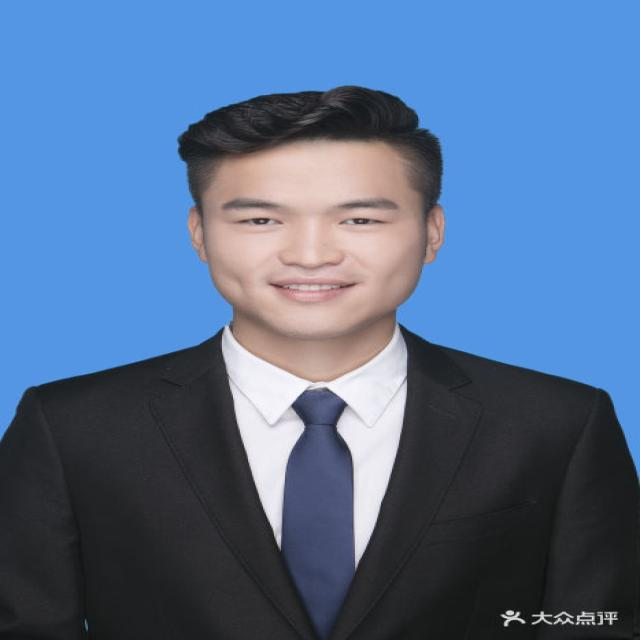Open: (332, 210, 391, 232), (234, 214, 284, 227)
